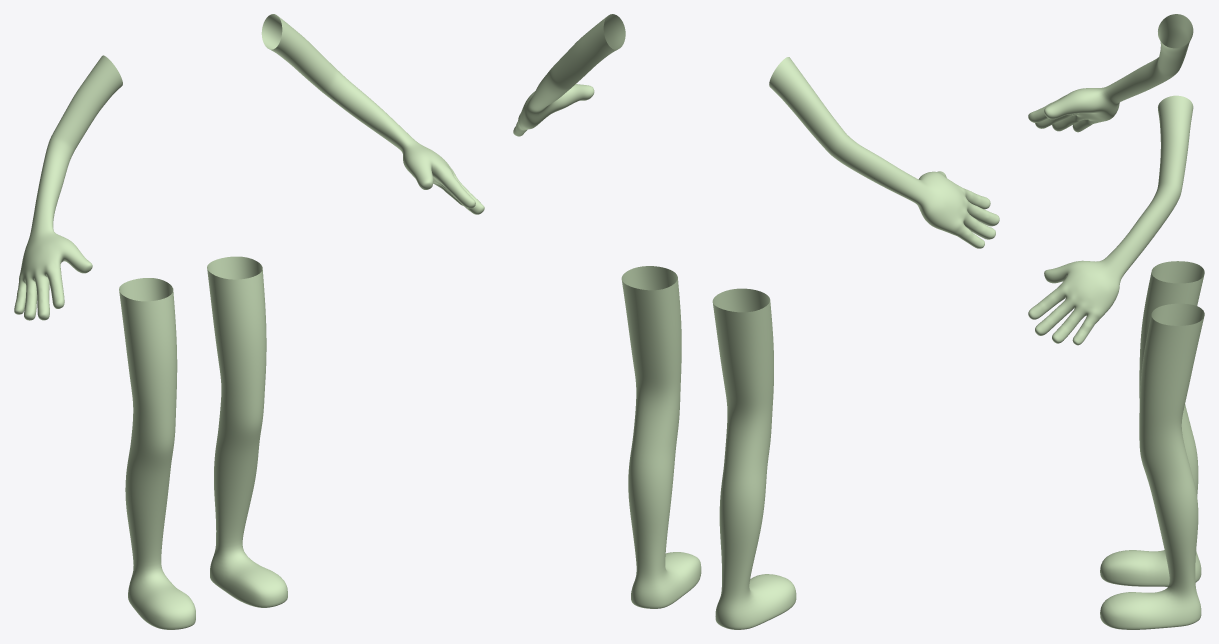
The model's file is ArmAndLegCartoon5F.fbx.
3 views of the same model, side by side, from view 1: azimuth 30°, elevation 25°; view 2: azimuth 150°, elevation 25°; view 3: azimuth 270°, elevation 25° (orthographic). The views are drawn at different scales.
Visible parts, largest first — view 1: Leg, ArmFiveFingers; view 2: Leg, ArmFiveFingers; view 3: Leg, ArmFiveFingers.
Part boxes in pixels (x1,y1,x2,y2): Leg: (119, 256, 287, 629); ArmFiveFingers: (14, 14, 484, 320); Leg: (621, 266, 796, 629); ArmFiveFingers: (513, 14, 999, 248); Leg: (1100, 261, 1204, 629); ArmFiveFingers: (1028, 14, 1193, 345).
Size of what is drawn, in the model's own units: 2157 by 2511 by 738.
